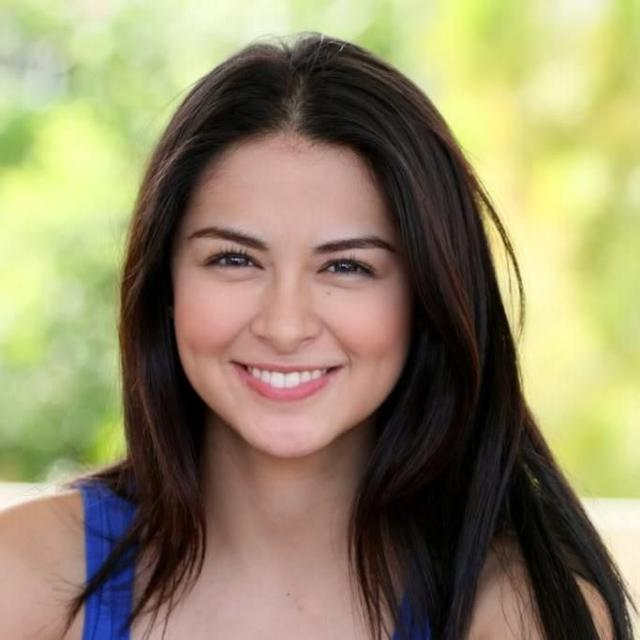sem_oculos: (157, 202, 429, 319)
